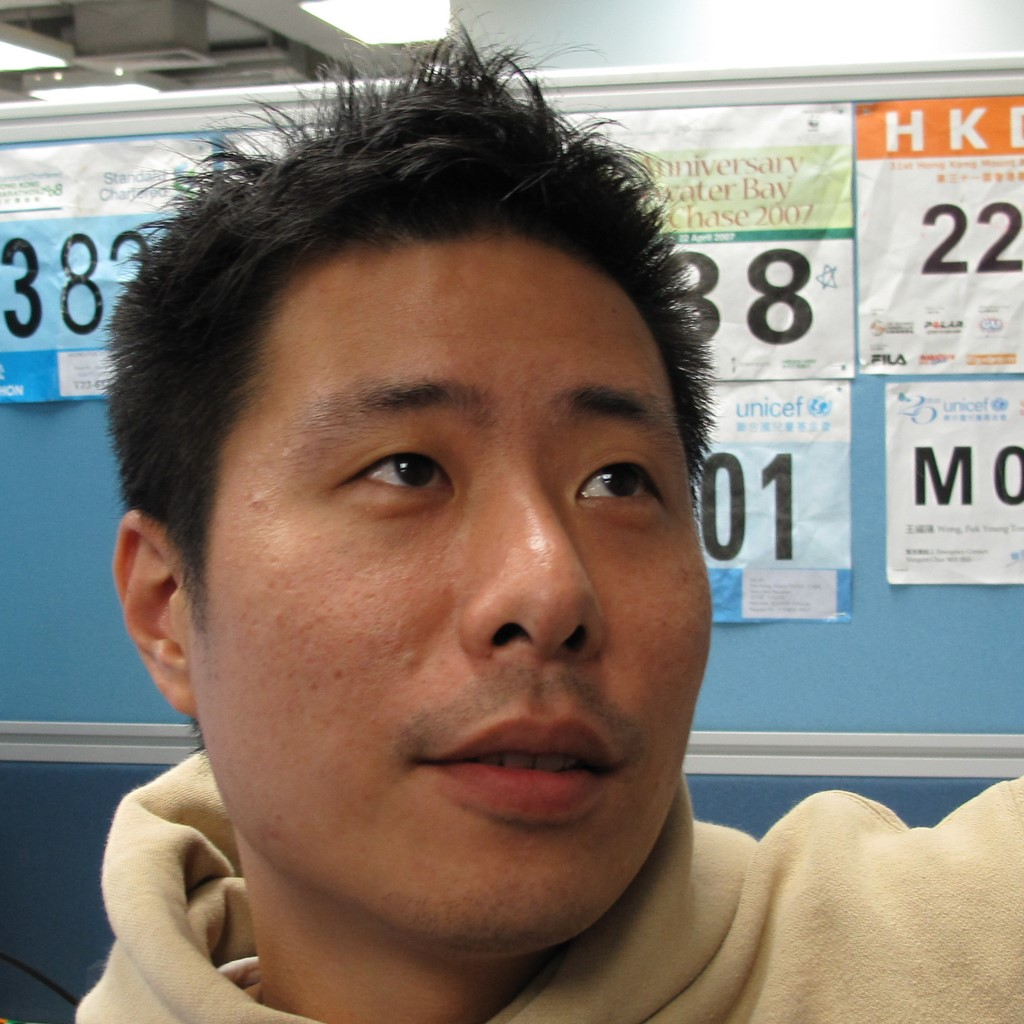sin_mascara: (115, 159, 738, 965)
